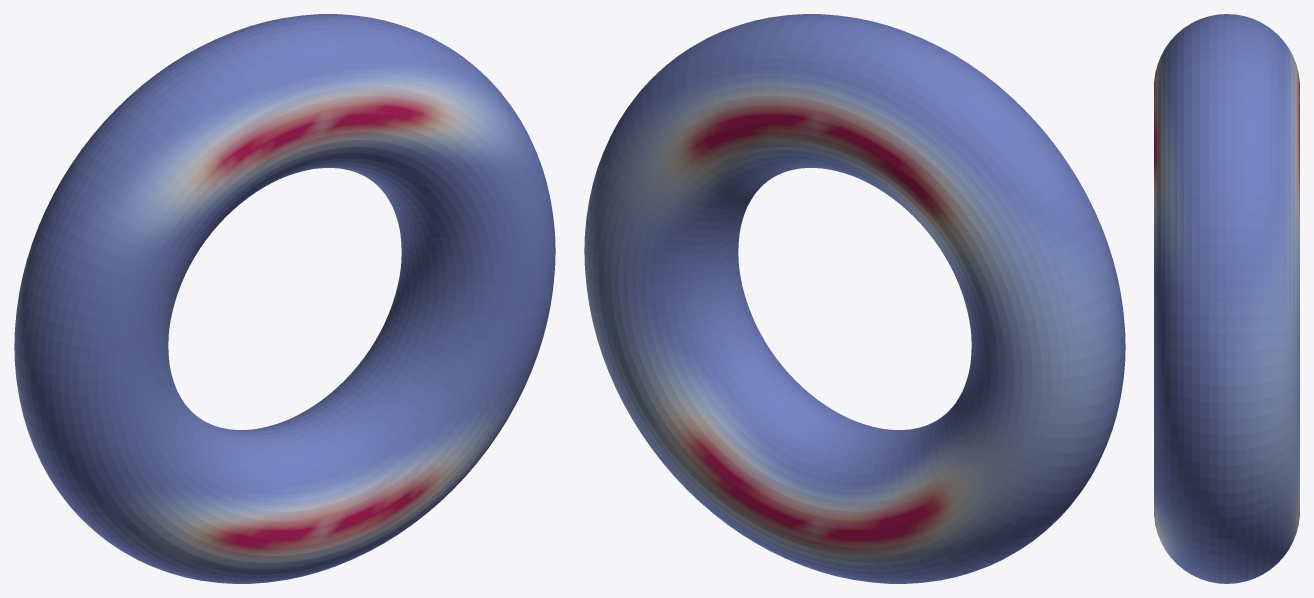
The picture shows the model from 3 angles, left to right: view 1: azimuth 30°, elevation 25°; view 2: azimuth 150°, elevation 25°; view 3: azimuth 270°, elevation 25°; orthographic projection. The views are drawn at different scales.
Parts seen in each view (by area): view 1: world; view 2: world; view 3: world.
Boxes of the visible parts, x1,y1,x2,y2 form: world: [14, 14, 555, 583]; world: [584, 14, 1125, 583]; world: [1154, 14, 1299, 583].
Size of the model in its own units: 16.13 by 16.13 by 4.13.
